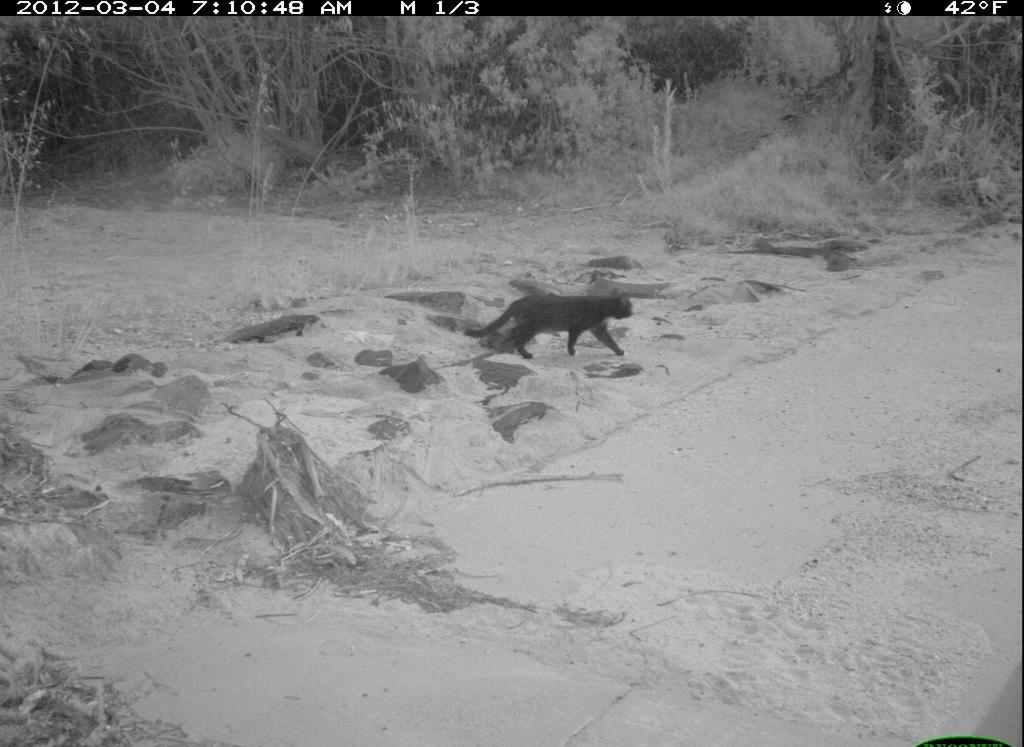cat: (473, 268, 649, 385)
